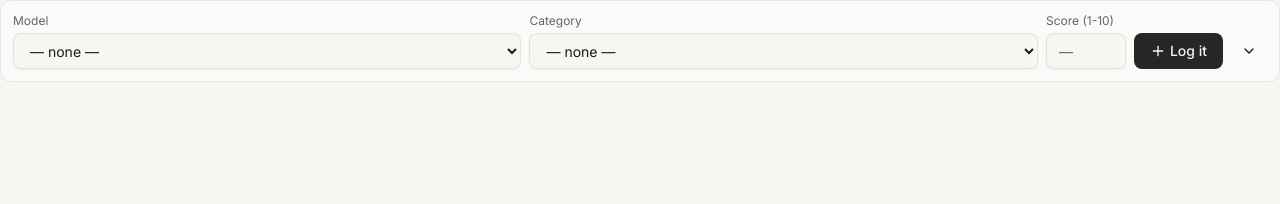
Test: QuickAddBar › refuses to save an empty entry
The width and height of the screenshot is (1280, 204).
Click the button "Log it" at (1178, 51), box top-left (1134, 33), bottom-right (1223, 69)
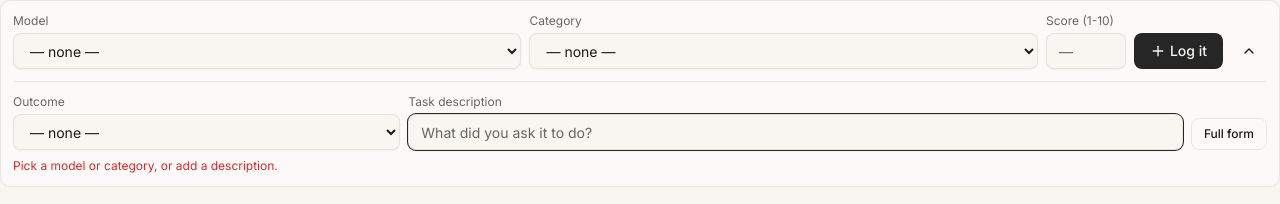
Expected: the text "Pick a model or category, or add a description." is shown, top-left (13, 158), bottom-right (278, 173)
